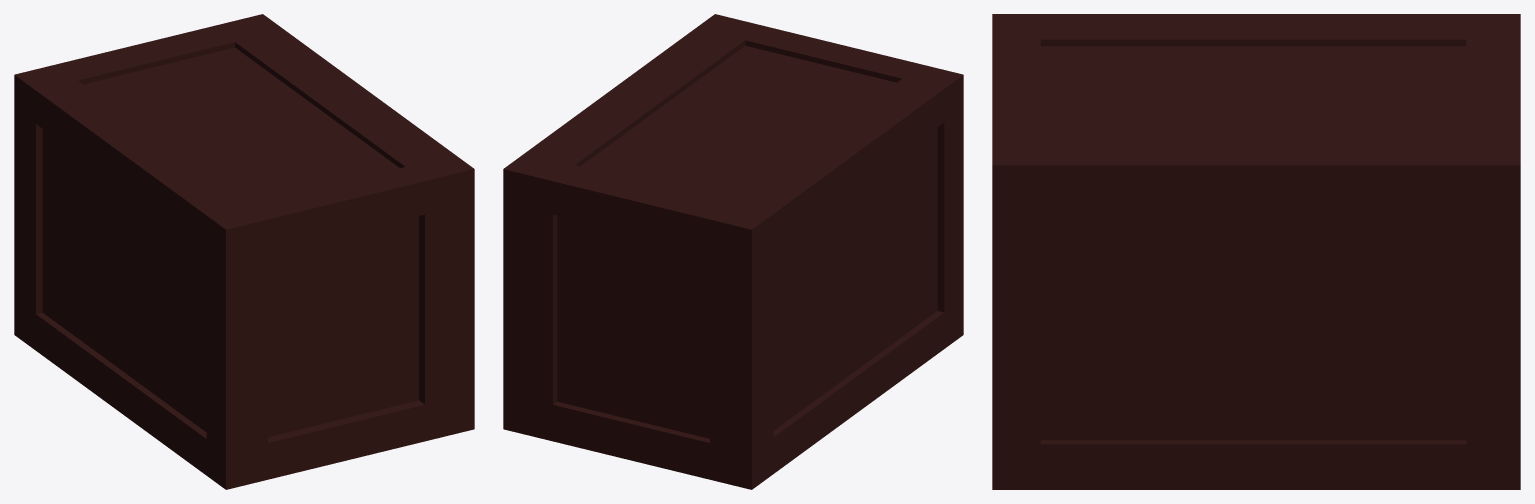
File: crate.fbx
3 renders of one model, left to right at view 1: azimuth 30°, elevation 25°; view 2: azimuth 150°, elevation 25°; view 3: azimuth 270°, elevation 25°, orthographic. The views are drawn at different scales.
Parts seen in each view (by area): view 1: crate; view 2: crate; view 3: crate.
Part boxes in pixels (<box>): crate: <box>14,14,474,489</box>; crate: <box>503,14,963,489</box>; crate: <box>992,14,1520,489</box>.
Bounding box in the file's own units: 200 × 200 × 295.
